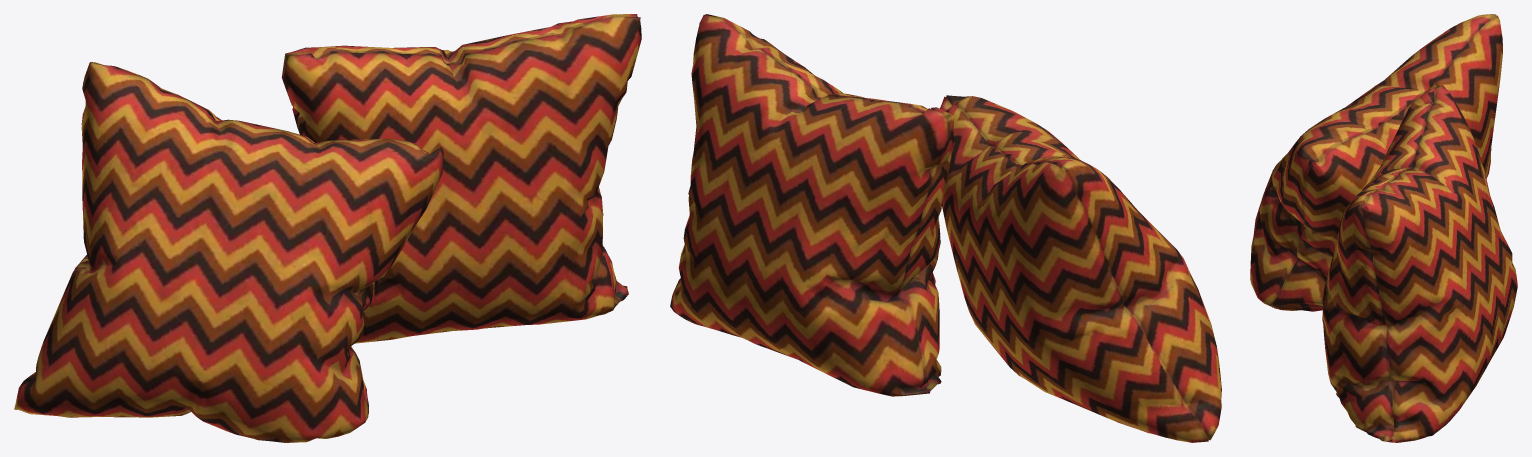
The model's file is throw_pillows_01.glb.
3 views of the same model, side by side, from view 1: azimuth 30°, elevation 25°; view 2: azimuth 150°, elevation 25°; view 3: azimuth 270°, elevation 25° (orthographic). The views are drawn at different scales.
Visible parts, largest first — view 1: throw_pillows_01_pillow01, throw_pillows_01_pillow02; view 2: throw_pillows_01_pillow02, throw_pillows_01_pillow01; view 3: throw_pillows_01_pillow02, throw_pillows_01_pillow01.
Part boxes in pixels (left/top/right/bottom): throw_pillows_01_pillow01: left=14, top=62, right=443, bottom=442; throw_pillows_01_pillow02: left=281, top=14, right=641, bottom=343; throw_pillows_01_pillow02: left=670, top=14, right=953, bottom=396; throw_pillows_01_pillow01: left=940, top=95, right=1221, bottom=442; throw_pillows_01_pillow02: left=1322, top=84, right=1517, bottom=442; throw_pillows_01_pillow01: left=1250, top=14, right=1502, bottom=311.
Bounding box in the file's own units: 0.9401 × 0.4501 × 0.4519.
Materials: 1 (1 with a texture image).
